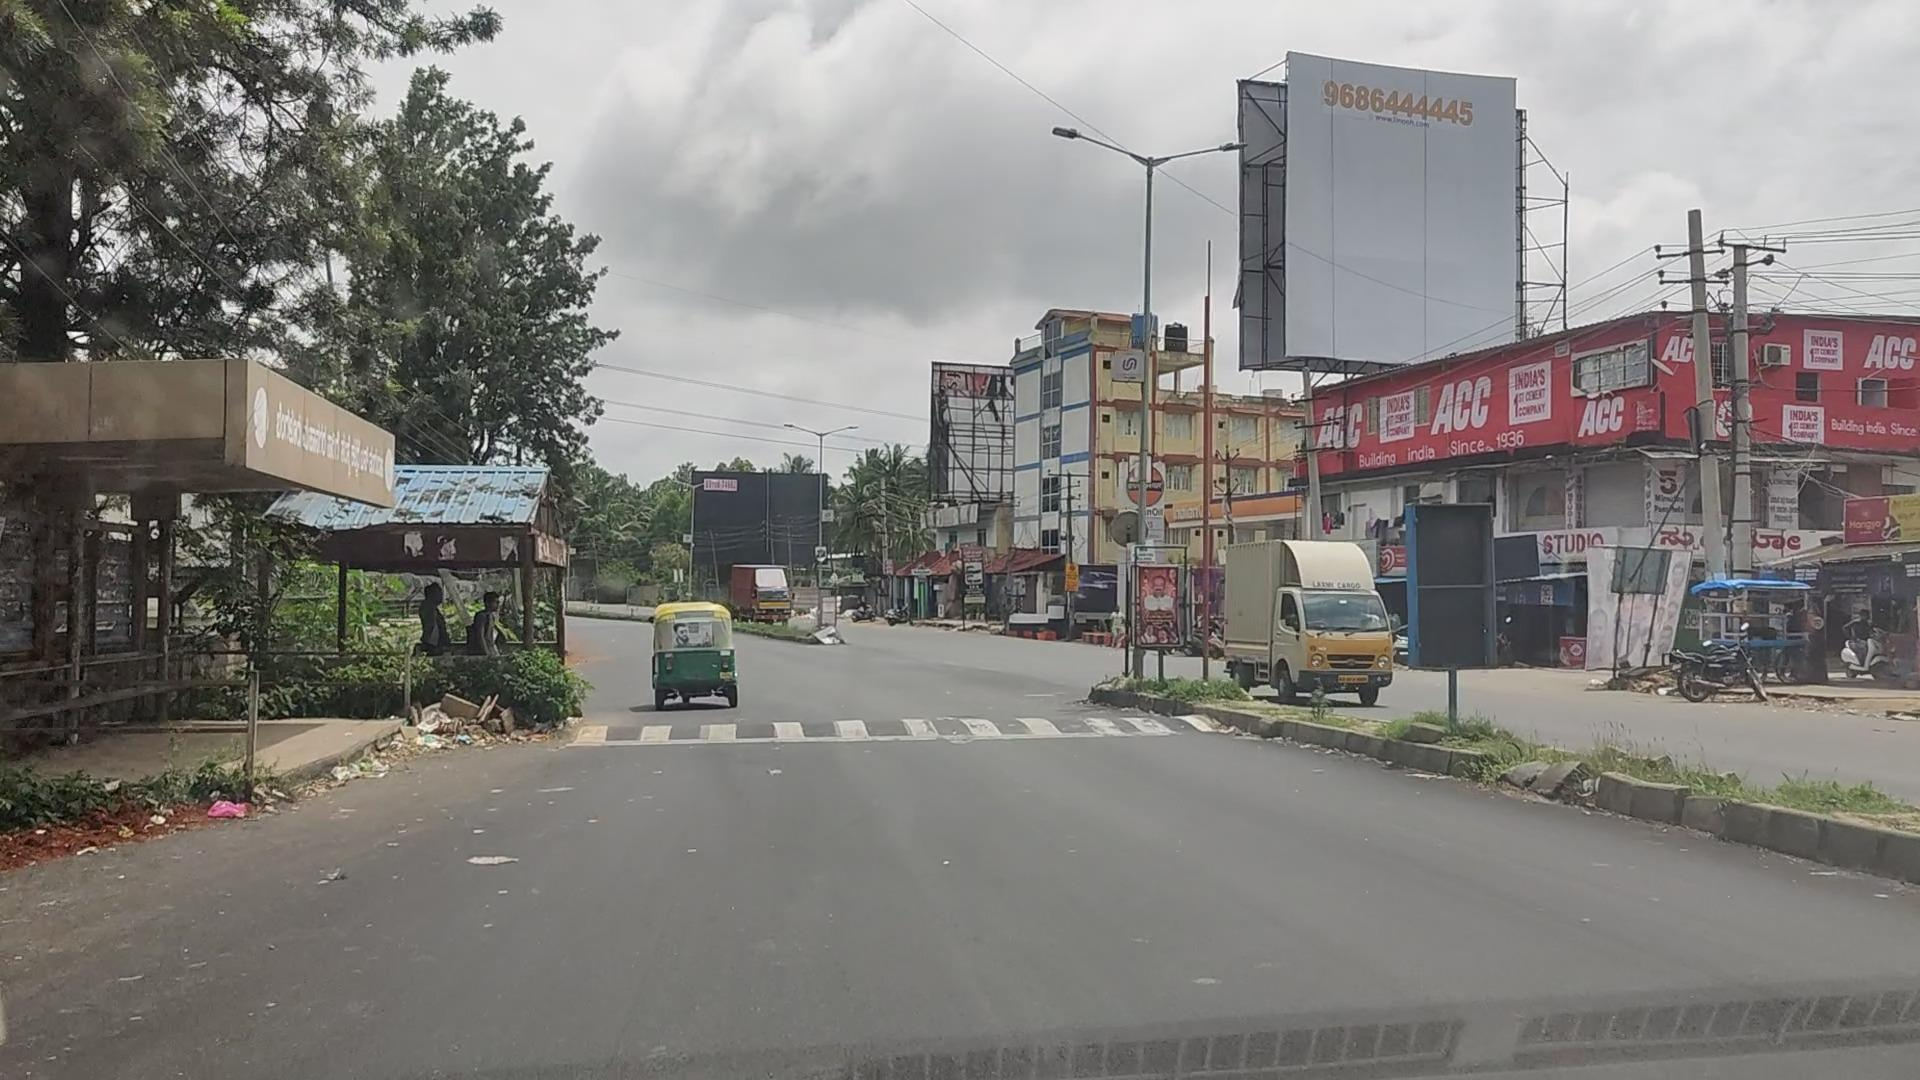LMV: (651, 601, 735, 698)
SpeedBump: (575, 707, 1229, 756)
